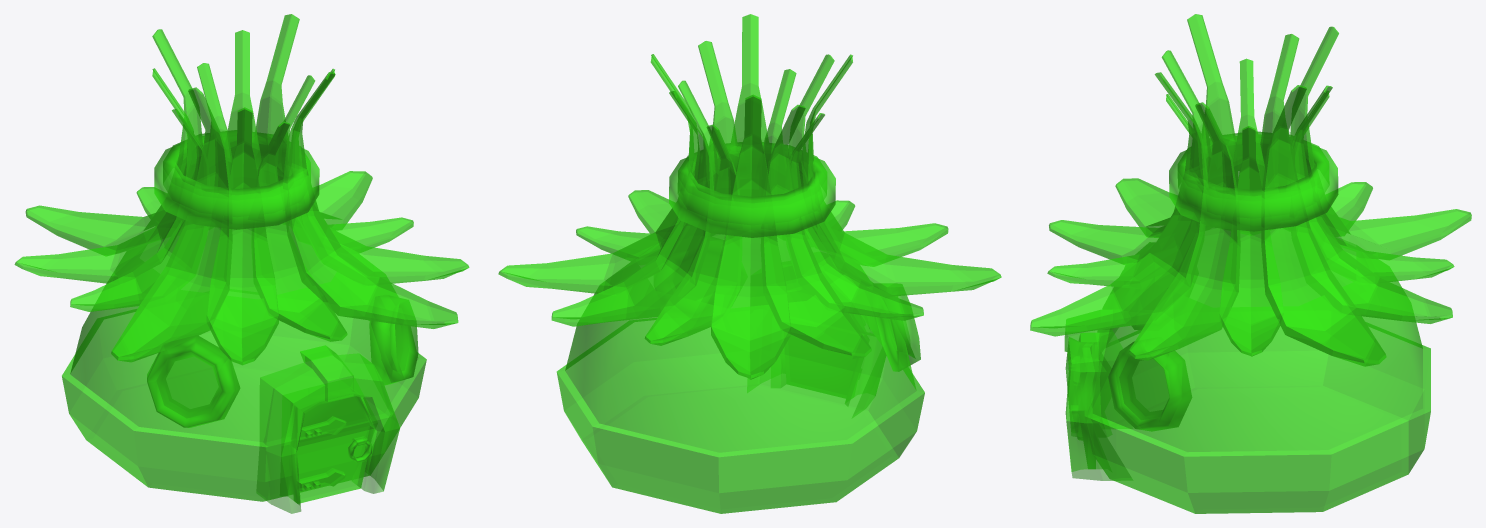
Rendered from House_possible_to_place.fbx.
The picture shows the model from 3 angles, left to right: view 1: azimuth 30°, elevation 25°; view 2: azimuth 150°, elevation 25°; view 3: azimuth 270°, elevation 25°; orthographic projection. The views are drawn at different scales.
Parts seen in each view (by area): view 1: Cube.015; view 2: Cube.015; view 3: Cube.015.
Boxes of the visible parts, x1,y1,x2,y2 form: Cube.015: [14, 14, 469, 513]; Cube.015: [498, 14, 1001, 513]; Cube.015: [1030, 14, 1471, 513].
Size of the model in its own units: 7.59 by 7.59 by 7.63.
